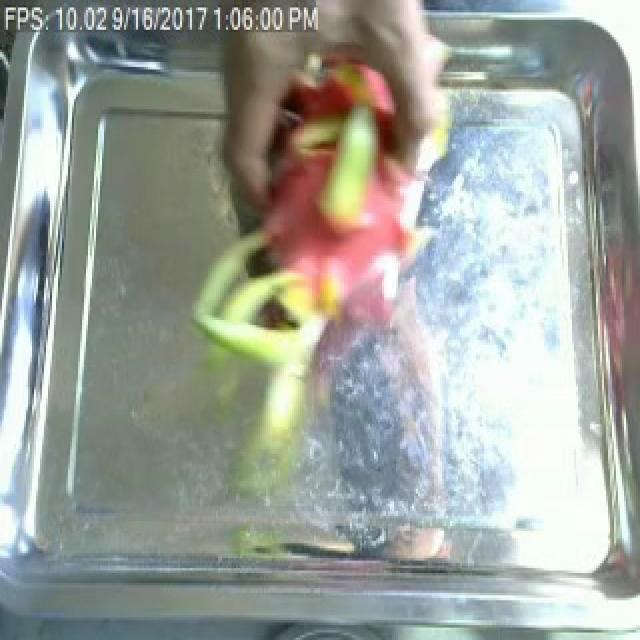fruit: (160, 34, 448, 422)
